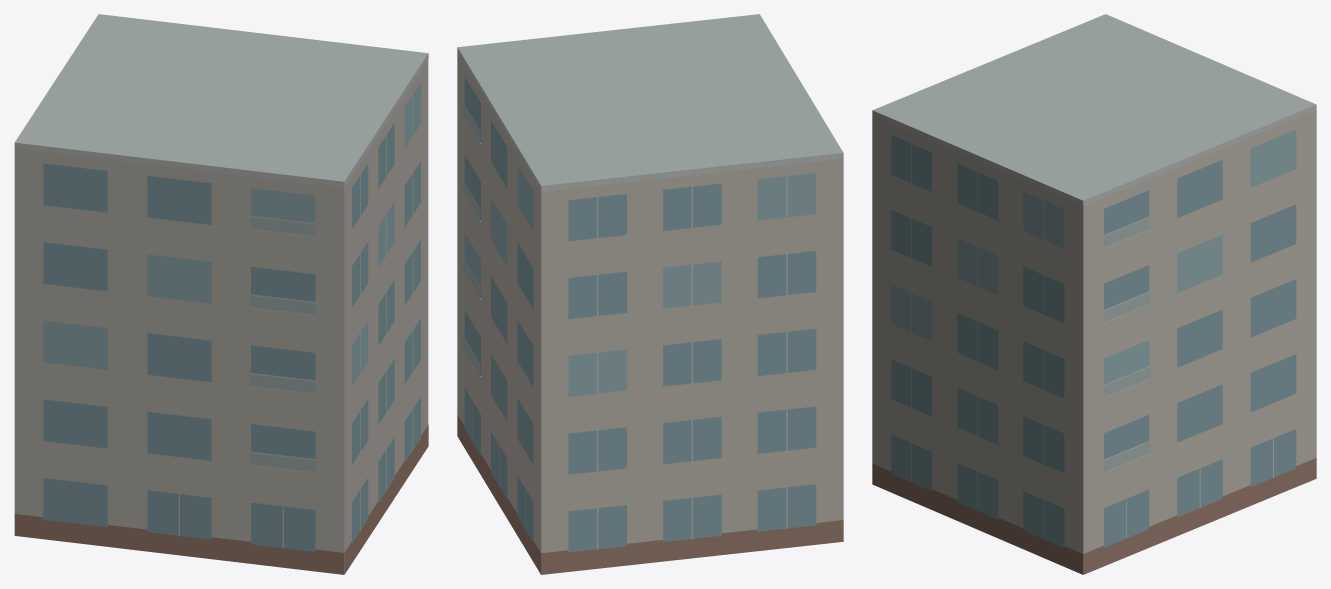
File: survey-upis-32883247.glb
The picture shows the model from 3 angles, left to right: view 1: azimuth 30°, elevation 25°; view 2: azimuth 150°, elevation 25°; view 3: azimuth 270°, elevation 25°; orthographic projection. The views are drawn at different scales.
Parts seen in each view (by area): view 1: survey-upis-32883247.tmp; view 2: survey-upis-32883247.tmp; view 3: survey-upis-32883247.tmp.
Boxes of the visible parts, <box> form: survey-upis-32883247.tmp: <box>14,14,428,574</box>; survey-upis-32883247.tmp: <box>457,14,843,574</box>; survey-upis-32883247.tmp: <box>872,14,1316,574</box>.
Bounding box in the file's own units: 17.03 × 15.9 × 17.11.
